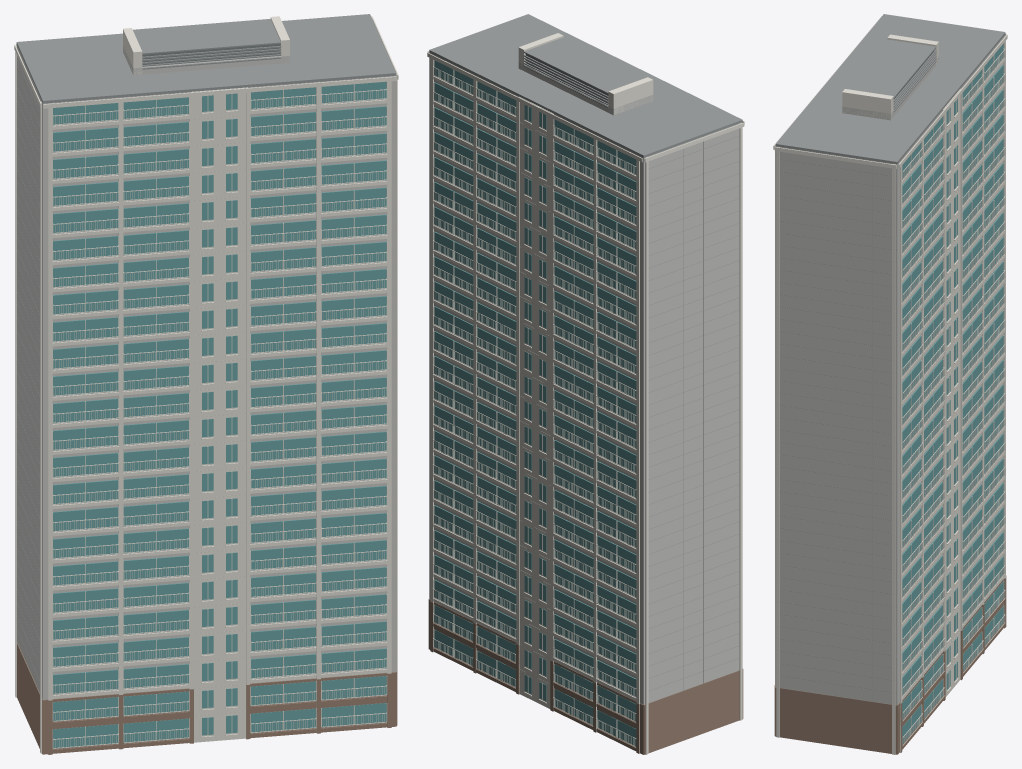
The model's file is bespoke-jamsil-els-114.glb.
The picture shows the model from 3 angles, left to right: view 1: azimuth 30°, elevation 25°; view 2: azimuth 150°, elevation 25°; view 3: azimuth 270°, elevation 25°; orthographic projection. The views are drawn at different scales.
Parts seen in each view (by area): view 1: Els114_editable_Els114_turquoise_balcony_glazing, Els114_editable_Els114_light_grey_solid_wall, Els114_white_exact_chunk_2, Els114_white_exact_chunk_3, Els114_white_exact_chunk_1, Els114_editable_Els114_modest_grey_flat_roof_caps, Els114_editable_Els114_muted_ground_wall, Els114_editable_Els114_narrow_charcoal_service_strips; view 2: Els114_editable_Els114_turquoise_balcony_glazing, Els114_editable_Els114_light_grey_solid_wall, Els114_white_exact_chunk_0, Els114_white_exact_chunk_1, Els114_editable_Els114_modest_grey_flat_roof_caps, Els114_editable_Els114_muted_ground_wall, Els114_white_exact_chunk_3; view 3: Els114_editable_Els114_light_grey_solid_wall, Els114_editable_Els114_turquoise_balcony_glazing, Els114_white_exact_chunk_0, Els114_editable_Els114_modest_grey_flat_roof_caps, Els114_white_exact_chunk_1, Els114_editable_Els114_muted_ground_wall, Els114_white_exact_chunk_3.
Boxes of the visible parts, x1,y1,x2,y2 form: Els114_editable_Els114_turquoise_balcony_glazing: [52, 81, 386, 747]; Els114_editable_Els114_light_grey_solid_wall: [16, 45, 396, 715]; Els114_white_exact_chunk_2: [48, 92, 316, 748]; Els114_white_exact_chunk_3: [43, 16, 398, 738]; Els114_white_exact_chunk_1: [14, 43, 247, 753]; Els114_editable_Els114_modest_grey_flat_roof_caps: [16, 14, 396, 694]; Els114_editable_Els114_muted_ground_wall: [17, 642, 396, 754]; Els114_editable_Els114_narrow_charcoal_service_strips: [142, 43, 280, 64]; Els114_editable_Els114_turquoise_balcony_glazing: [434, 60, 636, 745]; Els114_editable_Els114_light_grey_solid_wall: [429, 52, 742, 704]; Els114_white_exact_chunk_0: [430, 54, 592, 725]; Els114_white_exact_chunk_1: [427, 52, 744, 754]; Els114_editable_Els114_modest_grey_flat_roof_caps: [429, 14, 742, 703]; Els114_editable_Els114_muted_ground_wall: [428, 599, 743, 754]; Els114_white_exact_chunk_3: [427, 33, 744, 124]; Els114_editable_Els114_light_grey_solid_wall: [775, 35, 1005, 705]; Els114_editable_Els114_turquoise_balcony_glazing: [902, 44, 1003, 743]; Els114_white_exact_chunk_0: [900, 89, 983, 752]; Els114_editable_Els114_modest_grey_flat_roof_caps: [775, 14, 1005, 704]; Els114_white_exact_chunk_1: [898, 33, 1007, 664]; Els114_editable_Els114_muted_ground_wall: [774, 575, 1006, 754]; Els114_white_exact_chunk_3: [773, 16, 938, 754].
Size of the model in its own units: 34.35 by 65.55 by 22.7.
